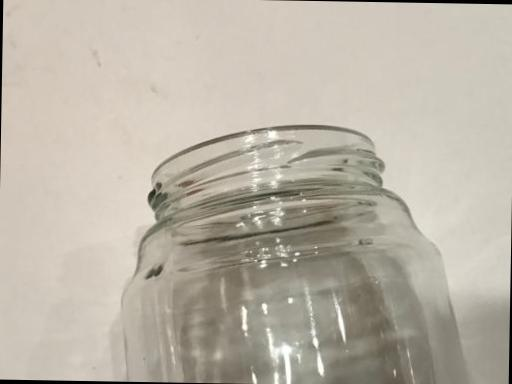glass: (77, 110, 484, 384)
